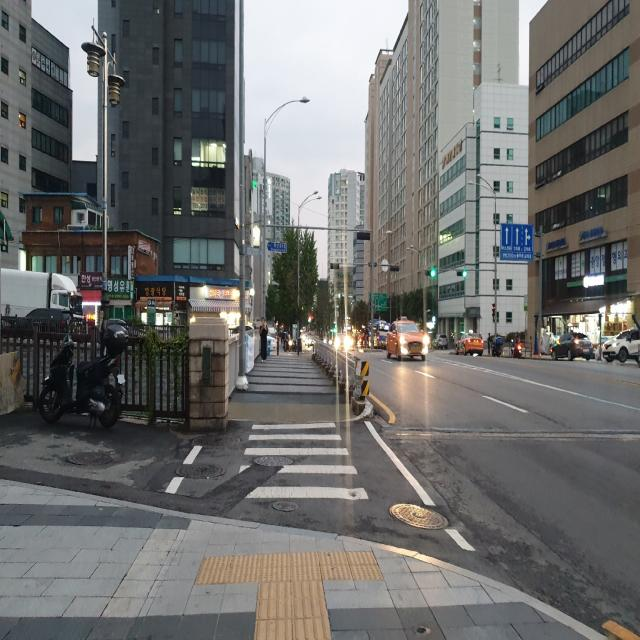횡단보도: (238, 419, 370, 502)
